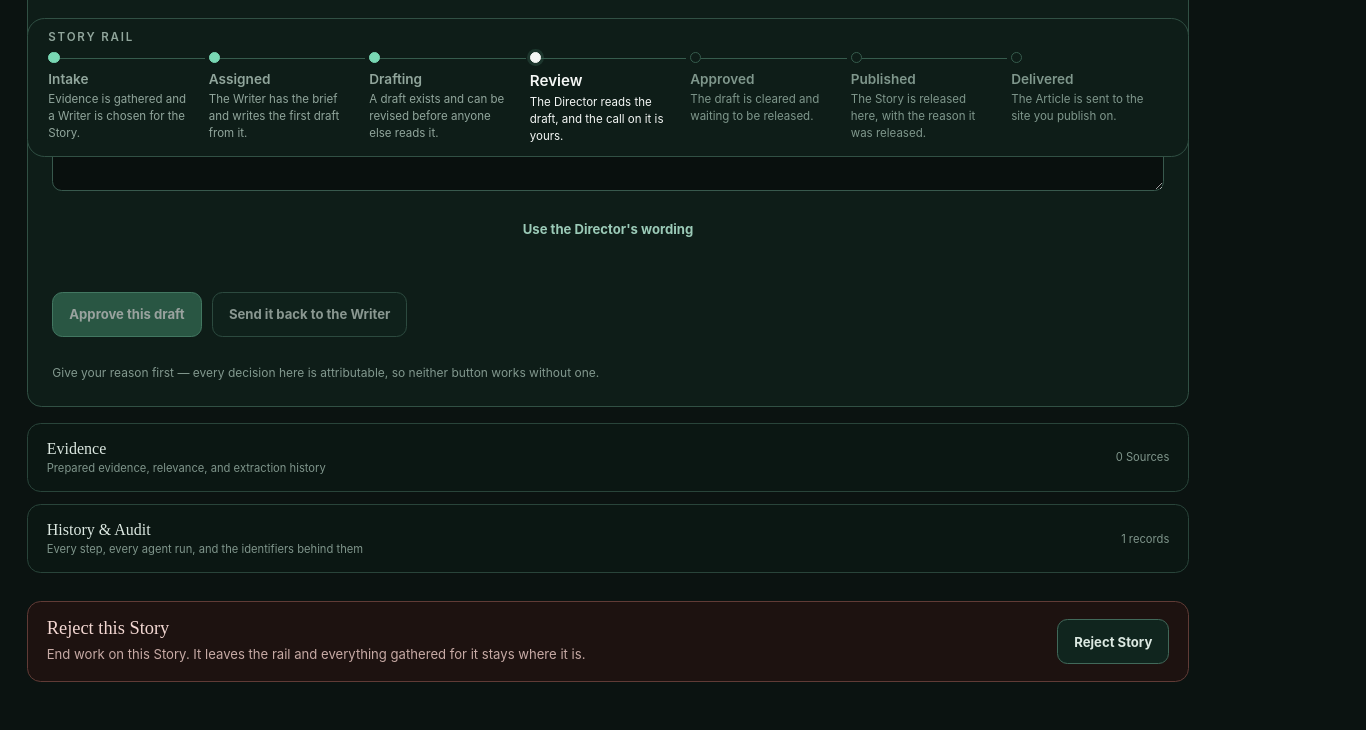
Test: Director review workspace › requires a deliberate reason before requesting operator rejection
(page scrolled)
Click the button "Reject Story" at (1113, 642), box 1057,619 -> 1169,664
(page scrolled)
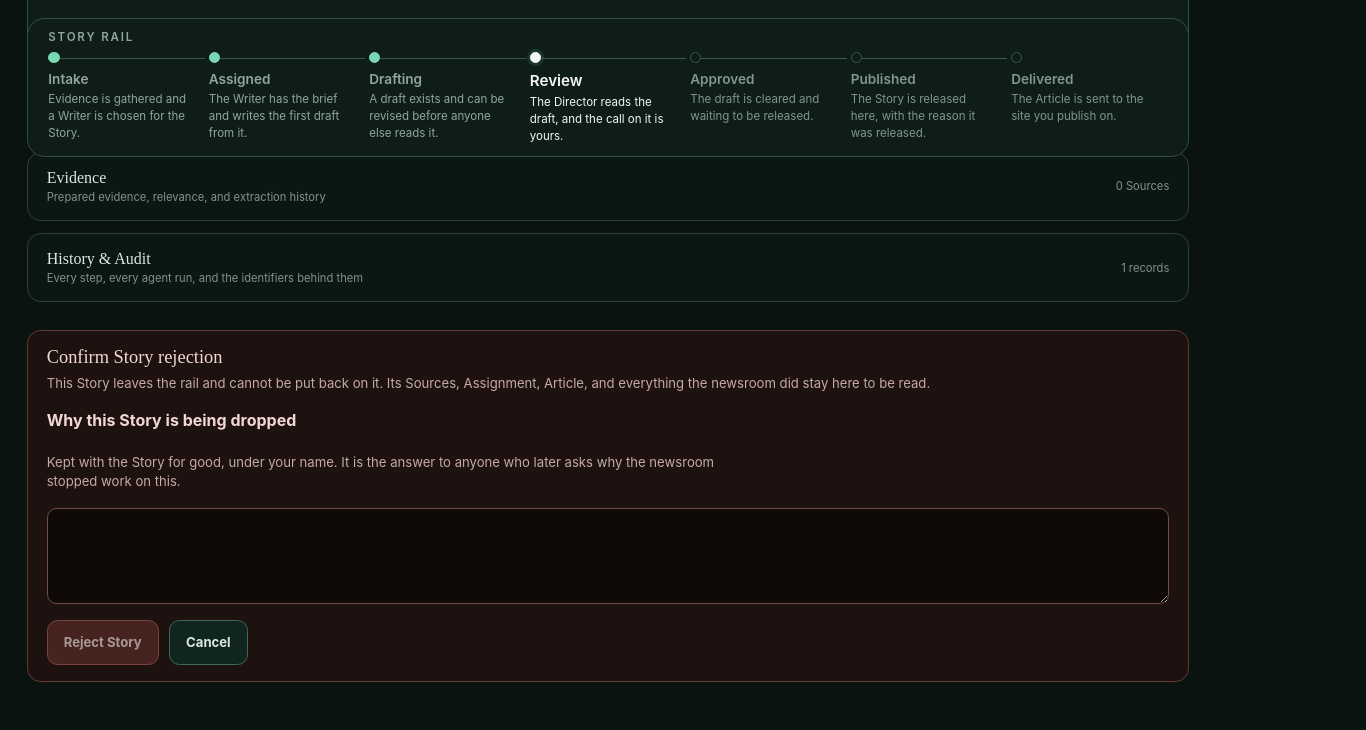
Expected: the button "Reject Story" is disabled, 47,620 -> 159,665
Type "The reporting no longer supports this Story." into the text box labelled "Why this Story is being dropped" at (608, 556), box 47,508 -> 1169,604
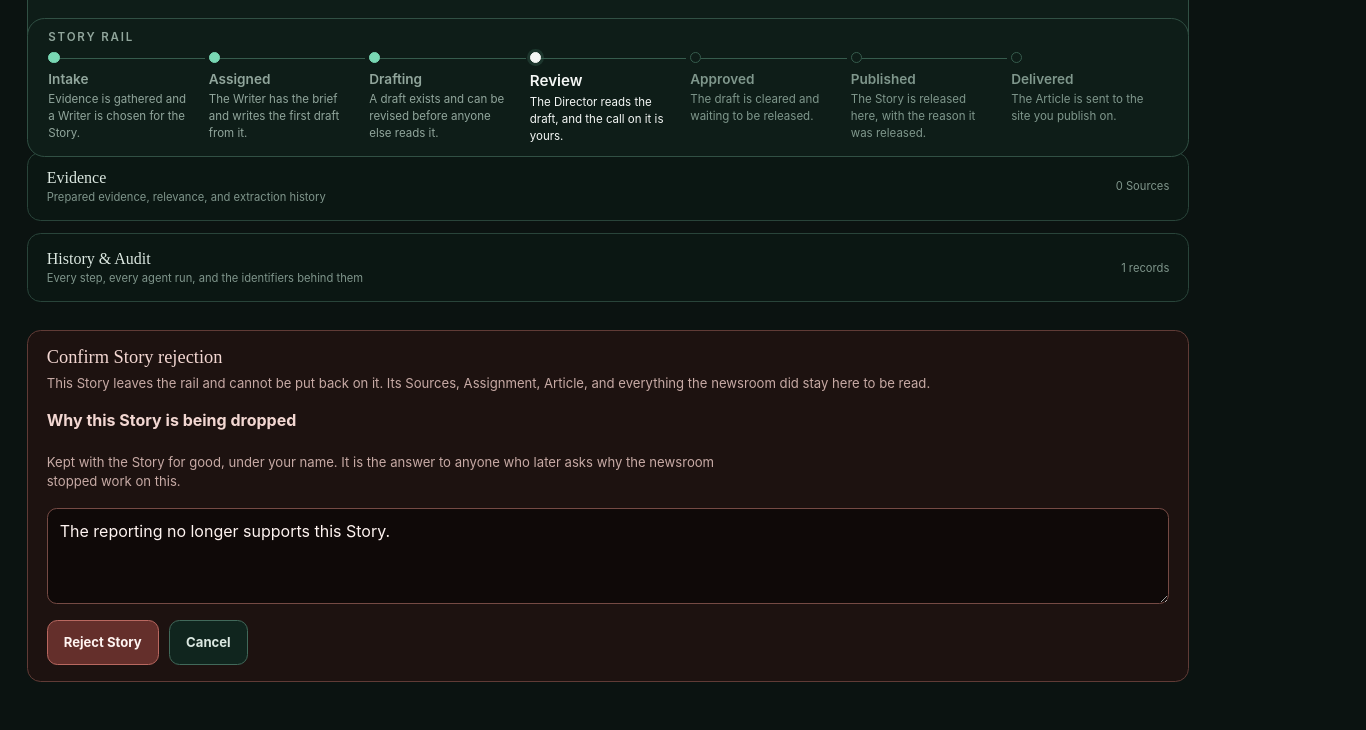
Expected: the button "Reject Story" is enabled
Click the button "Reject Story" at (103, 642), box 47,620 -> 159,665
(page scrolled)
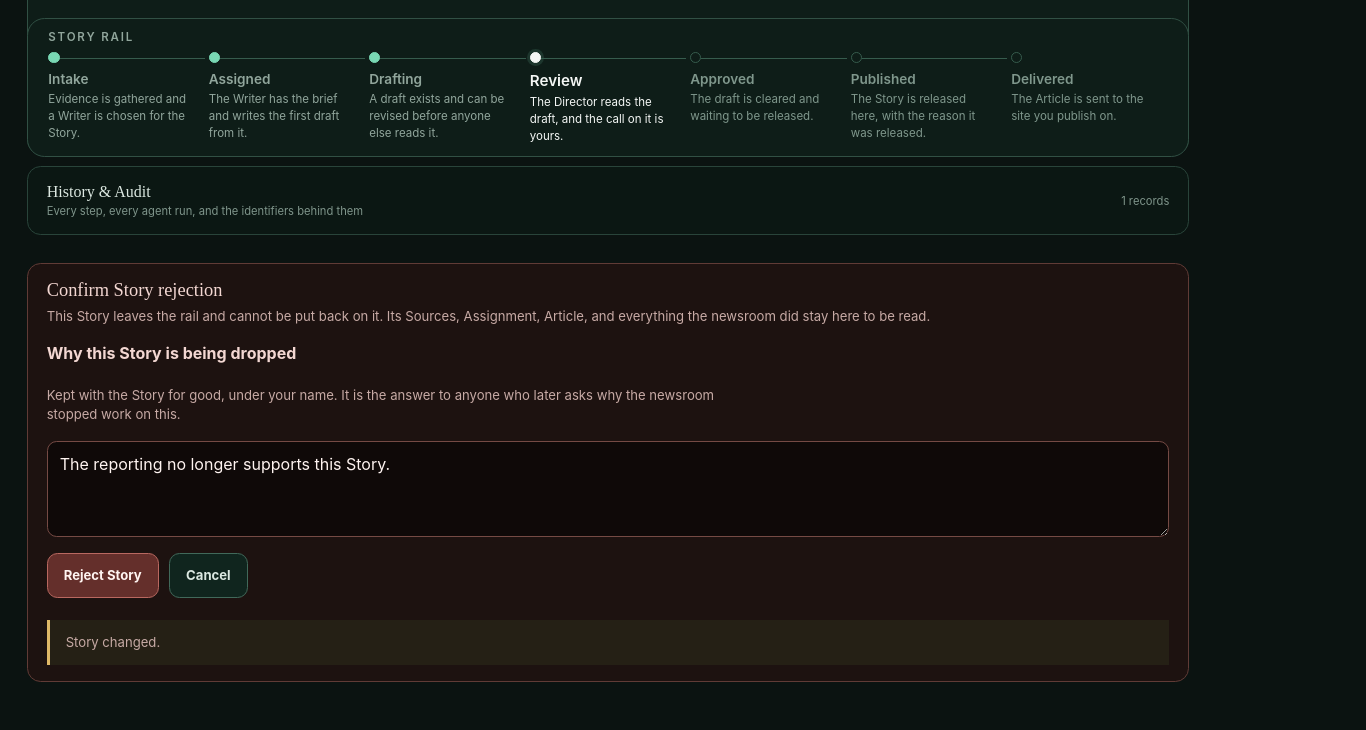
Expected: the text "Story changed." is shown, 47,620 -> 1169,665
